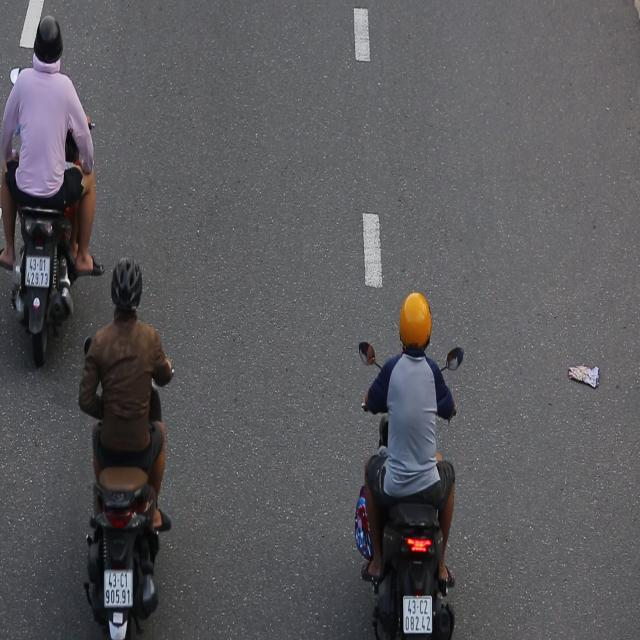motorbike: (345, 261, 465, 640), (86, 246, 184, 640), (0, 12, 89, 384)
